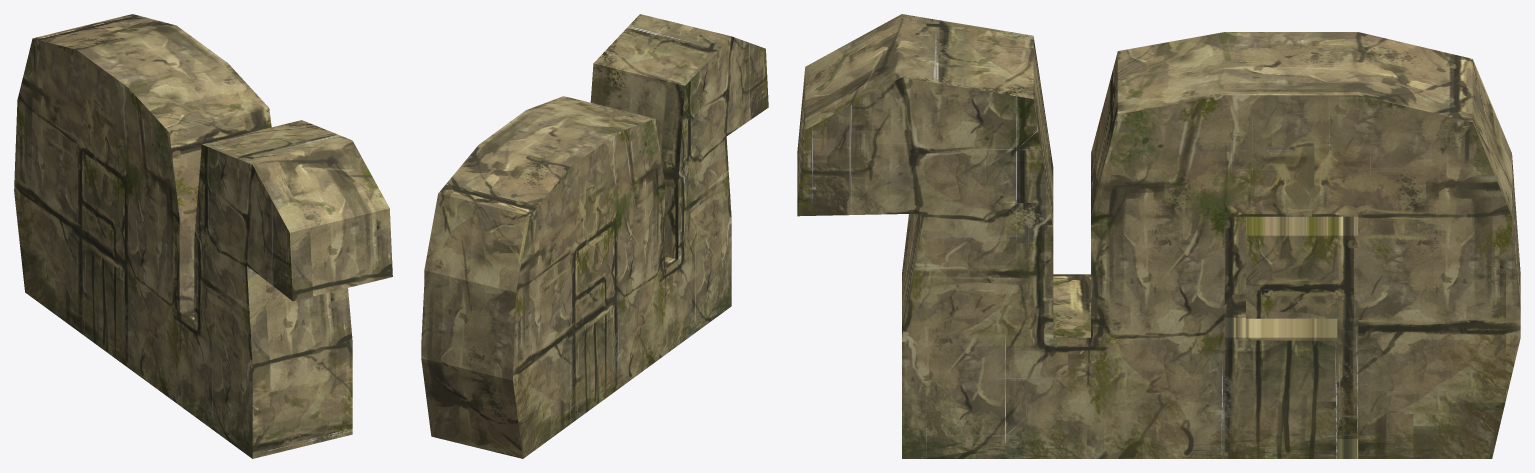
File: stone_snail.fbx
The picture shows the model from 3 angles, left to right: view 1: azimuth 30°, elevation 25°; view 2: azimuth 150°, elevation 25°; view 3: azimuth 270°, elevation 25°; orthographic projection. The views are drawn at different scales.
Parts seen in each view (by area): view 1: gate_low:gate_low:gate_low:pCube14; view 2: gate_low:gate_low:gate_low:pCube14; view 3: gate_low:gate_low:gate_low:pCube14.
Boxes of the visible parts, x1=… form: gate_low:gate_low:gate_low:pCube14: x1=14, y1=14, x2=392, y2=458; gate_low:gate_low:gate_low:pCube14: x1=421, y1=14, x2=768, y2=458; gate_low:gate_low:gate_low:pCube14: x1=797, y1=14, x2=1520, y2=458.
Bounding box in the file's own units: 27.69 × 77.79 × 134.
